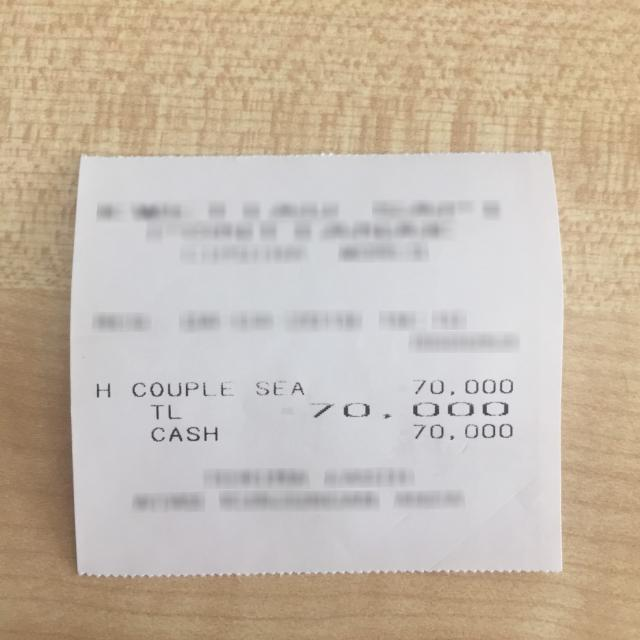kertas: (69, 152, 564, 576)
